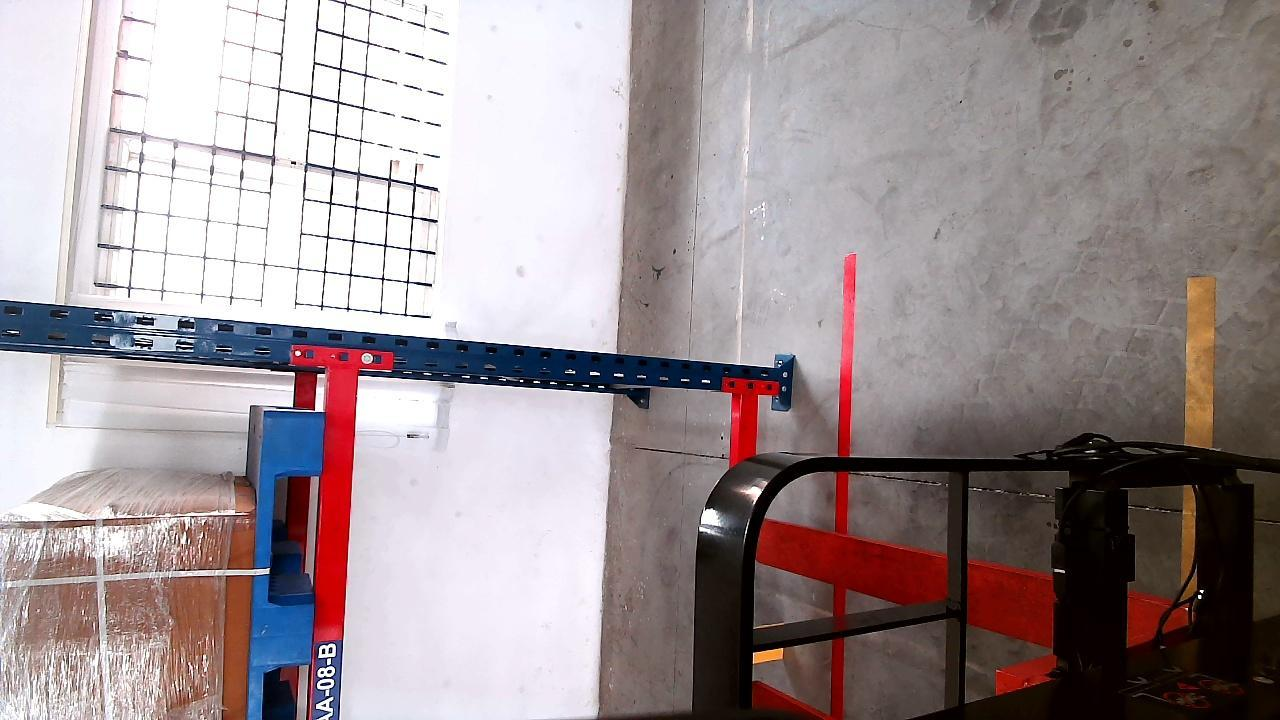red_line: (836, 247, 859, 526)
yellow_line: (1183, 274, 1215, 602)
